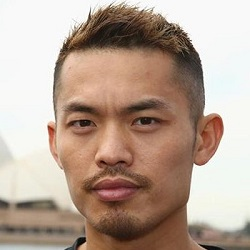unmask: (50, 41, 200, 245)
